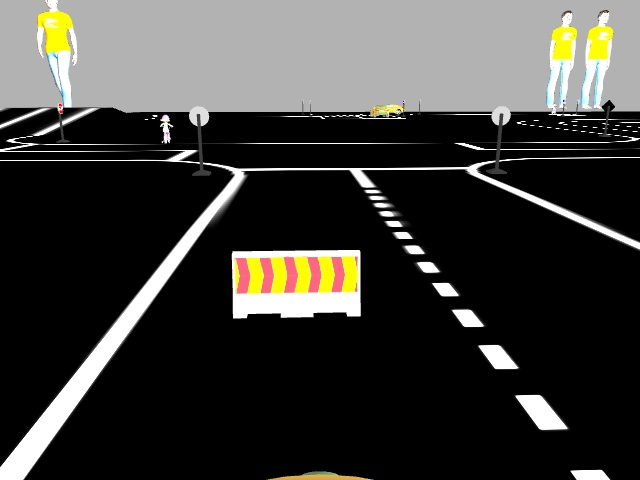ClosedRoadStand: (231, 252, 361, 314)
